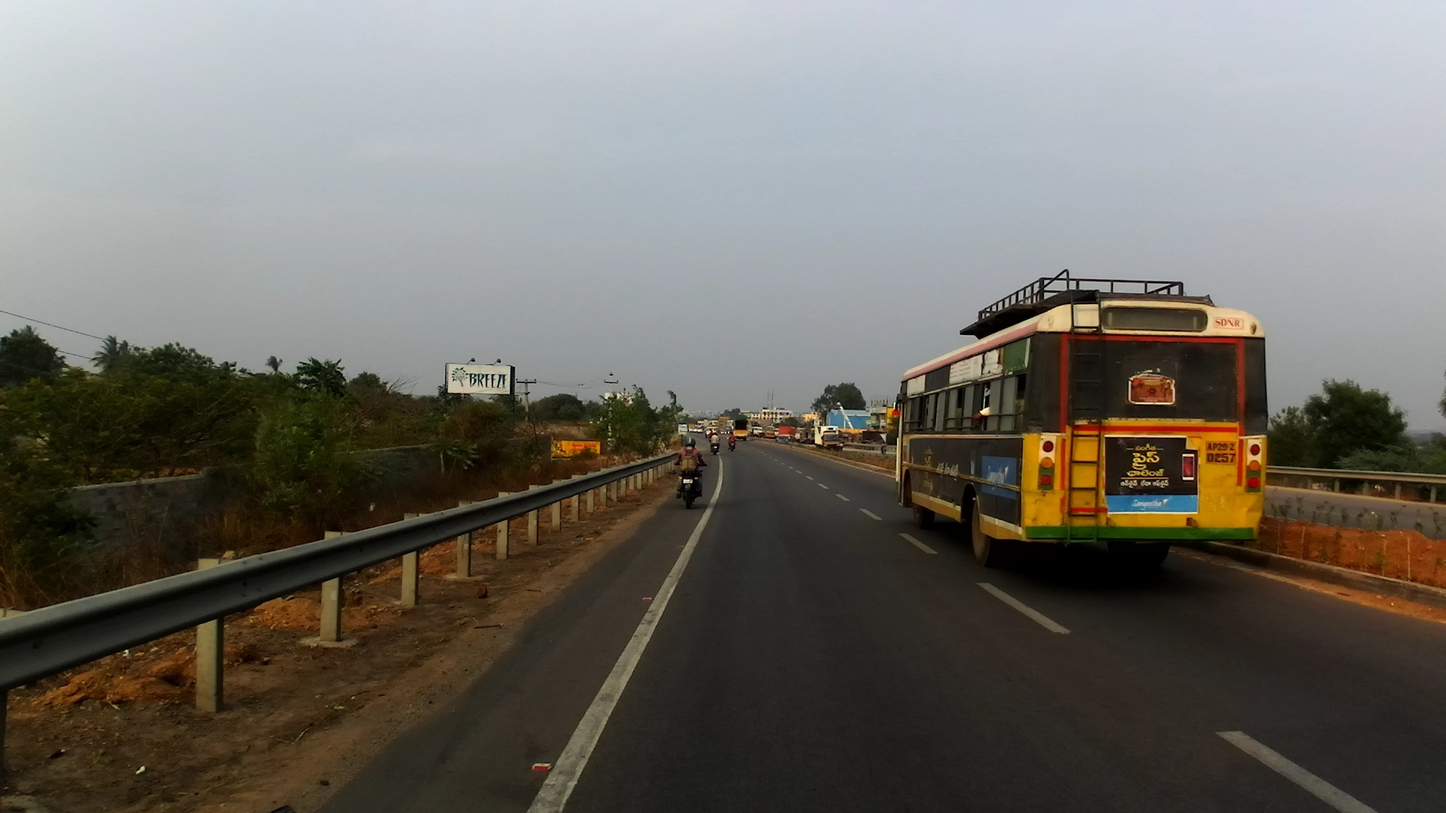bus: (895, 269, 1271, 574)
car: (697, 429, 703, 434), (688, 428, 694, 431), (694, 429, 697, 432)
motorcycle: (674, 456, 707, 509), (710, 438, 720, 455), (728, 439, 737, 452), (708, 435, 713, 442)
rider: (675, 437, 705, 500), (710, 433, 720, 453), (728, 431, 735, 450), (709, 429, 713, 435)
truck: (814, 426, 842, 449), (733, 419, 749, 442), (776, 427, 797, 443), (799, 426, 814, 445), (751, 427, 764, 438), (765, 426, 776, 438)
vehicle fallback: (836, 402, 853, 430), (705, 428, 718, 438), (718, 428, 731, 435)
